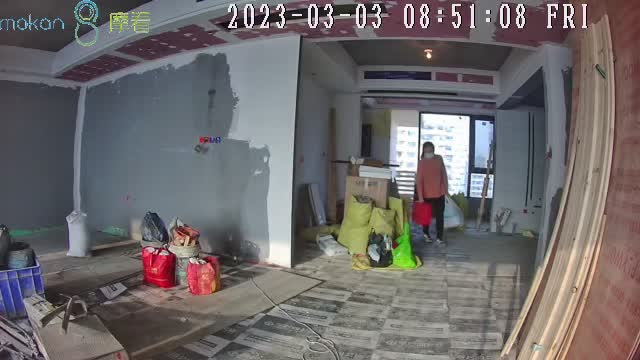people: (415, 141, 449, 243)
window: (391, 107, 495, 197)
